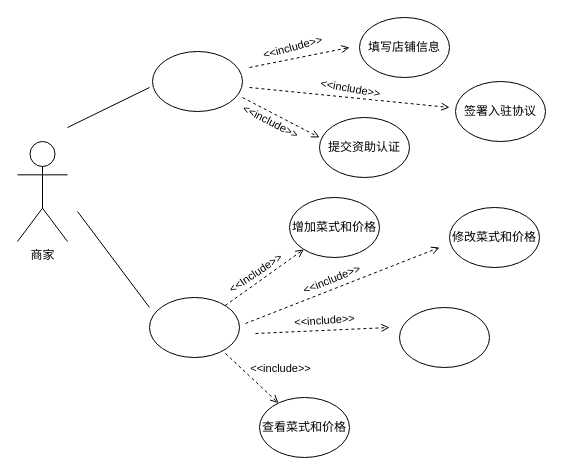
The diagram is 563 pixels wide and 475 high, and some of its shapes have lost their labels. Each missing label, with the box of its shape:
入驻平台: (152, 50, 242, 112)
删除菜式: (398, 306, 490, 368)
管理菜单: (148, 296, 240, 358)
